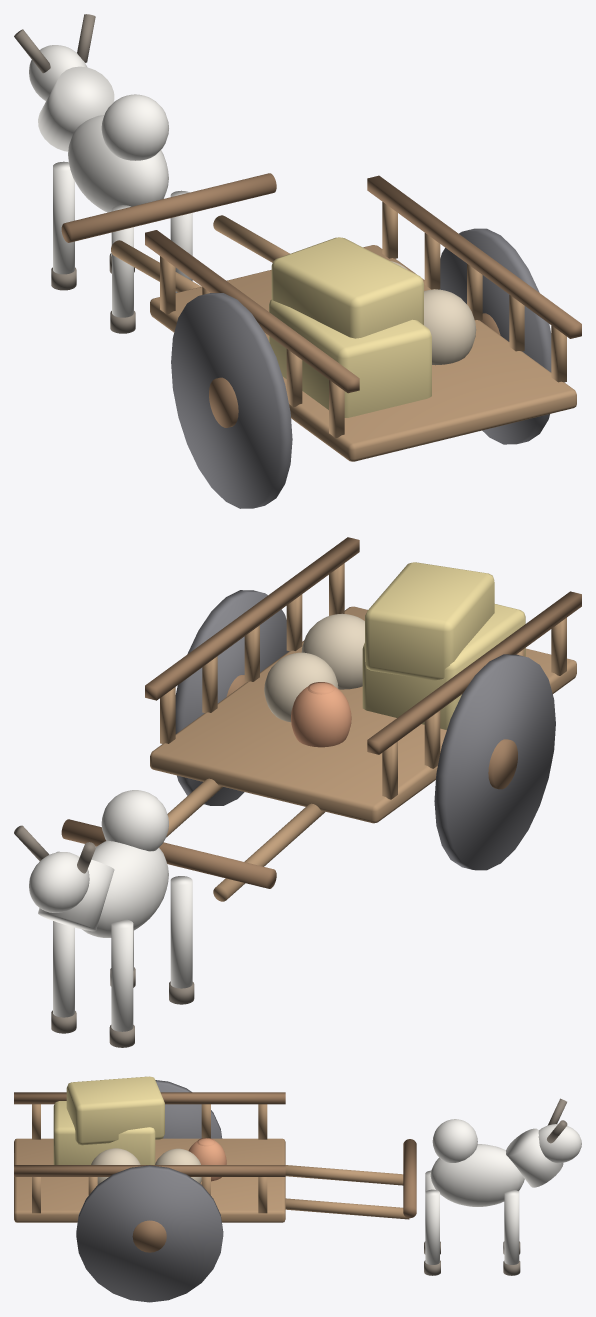
The model's file is bull_cart.glb.
The picture shows the model from 3 angles, top to bottom: view 1: azimuth 30°, elevation 25°; view 2: azimuth 150°, elevation 25°; view 3: azimuth 270°, elevation 25°; orthographic projection. The views are drawn at different scales.
Parts seen in each view (by area): view 1: WheelRim_-0.9, BedPlatform, HayBale2, HayBale1, WheelRim_0.9, OxBody, SideRail_Top_0.76, SideRail_Top_-0.76, YokeCrossbar, OxNeck, OxHump, GrainSack1 (+15 smaller); view 2: BedPlatform, WheelRim_-0.9, HayBale2, WheelRim_0.9, HayBale1, SideRail_Top_0.76, OxBody, SideRail_Top_-0.76, GrainSack1, YokeCrossbar, OxHump, ClayPot (+17 smaller); view 3: WheelRim_0.9, BedPlatform, HayBale2, OxBody, HayBale1, SideRail_Top_0.76, SideRail_Top_-0.76, WheelRim_-0.9, OxNeck, OxHump, DraftBeamR, DraftBeamL (+13 smaller).
Boxes of the visible parts, x1,y1,x2,y2 form: WheelRim_-0.9: (171,293,292,508); BedPlatform: (150,245,576,461); HayBale2: (271,237,423,338); HayBale1: (269,299,431,417); WheelRim_0.9: (439,228,551,444); OxBody: (68,115,168,212); SideRail_Top_0.76: (367,175,581,338); SideRail_Top_-0.76: (145,230,359,393); YokeCrossbar: (61,173,276,242); OxNeck: (38,66,114,151); OxHump: (101,94,168,160); GrainSack1: (424,289,476,365); BedPlatform: (150,606,576,823); WheelRim_-0.9: (434,654,555,870); HayBale2: (365,562,494,680); WheelRim_0.9: (175,590,288,805); HayBale1: (362,604,525,729); SideRail_Top_0.76: (145,537,359,700); OxBody: (82,841,168,937); SideRail_Top_-0.76: (367,591,581,754); GrainSack1: (301,613,364,689); YokeCrossbar: (61,819,276,888); OxHump: (101,790,168,851); ClayPot: (291,683,351,747); WheelRim_0.9: (76,1165,223,1302); BedPlatform: (14,1138,285,1222); HayBale2: (66,1076,164,1145); OxBody: (430,1144,524,1206); HayBale1: (53,1101,155,1164); SideRail_Top_0.76: (14,1165,285,1176); SideRail_Top_-0.76: (14,1092,285,1104); WheelRim_-0.9: (155,1080,222,1138); OxNeck: (506,1128,563,1187); OxHump: (432,1119,477,1162); DraftBeamR: (285,1198,409,1219); DraftBeamL: (285,1165,403,1185).
Size of the model in its own units: 1.94 by 1.55 by 5.02.
